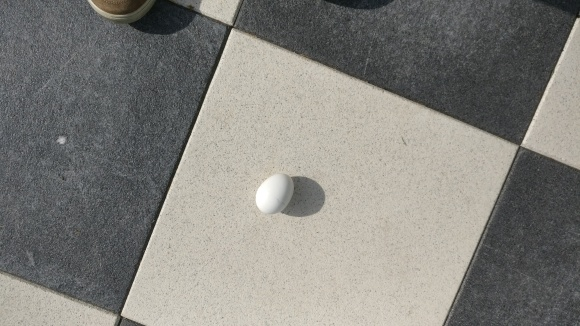egg: (254, 173, 294, 216)
